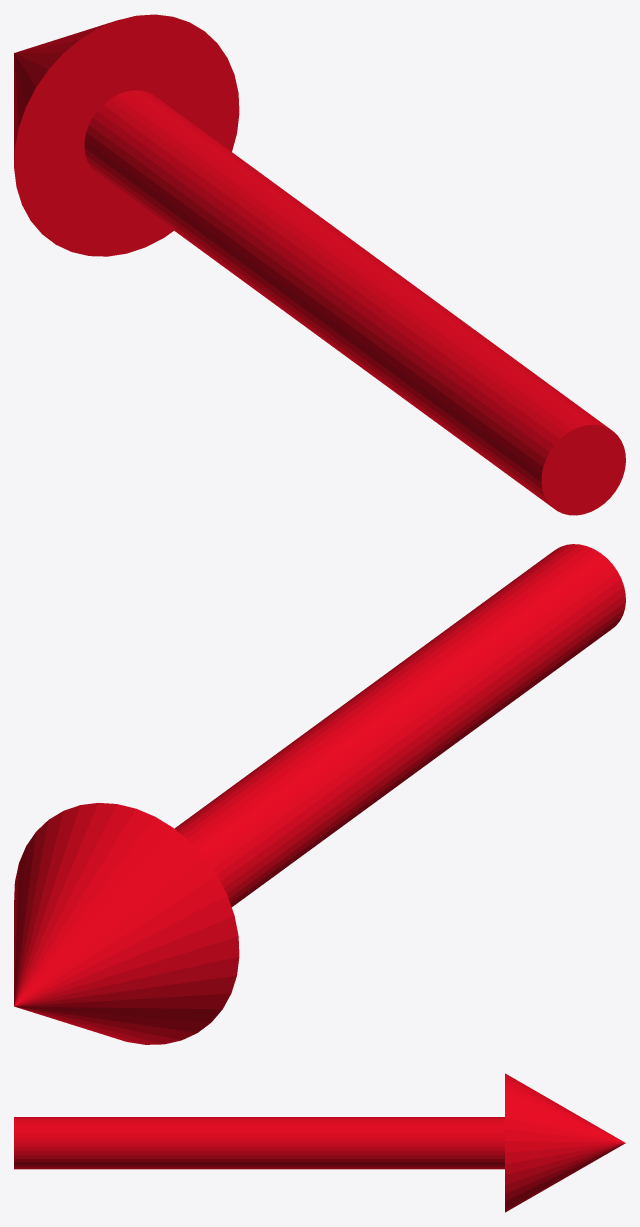
Rendered from Rojo.fbx.
3 renders of one model, top to bottom at view 1: azimuth 30°, elevation 25°; view 2: azimuth 150°, elevation 25°; view 3: azimuth 270°, elevation 25°, orthographic. The views are drawn at different scales.
Visible parts, largest first — view 1: azul; view 2: azul; view 3: azul.
Boxes of the visible parts, <box> form: azul: <box>14,14,625,515</box>; azul: <box>14,544,625,1044</box>; azul: <box>14,1073,625,1212</box>.
Size of the model in its own units: 1599 by 1597 by 7000.
